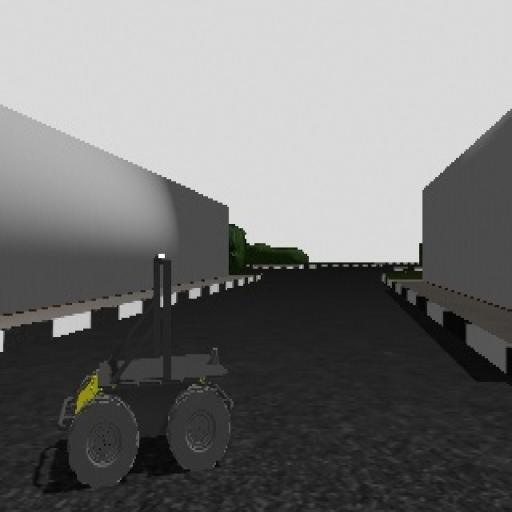huskya200: (58, 246, 232, 491)
